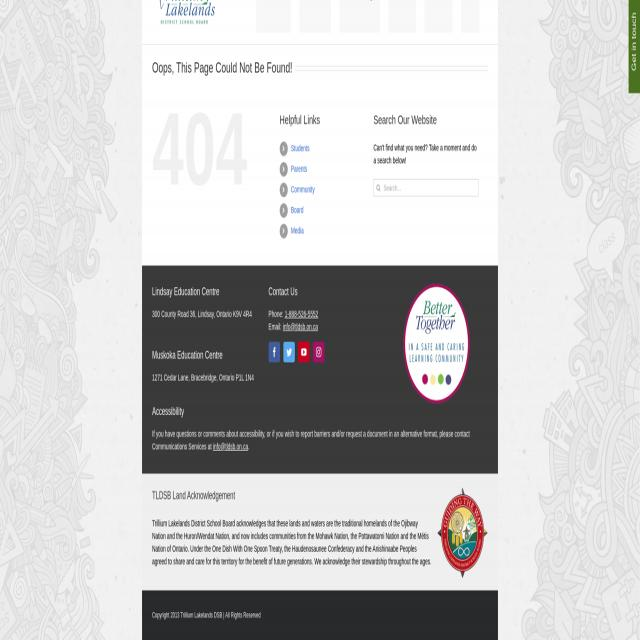button: (403, 284, 470, 403), (438, 488, 488, 578), (152, 0, 216, 28)
field: (374, 179, 478, 196), (373, 179, 383, 196)
